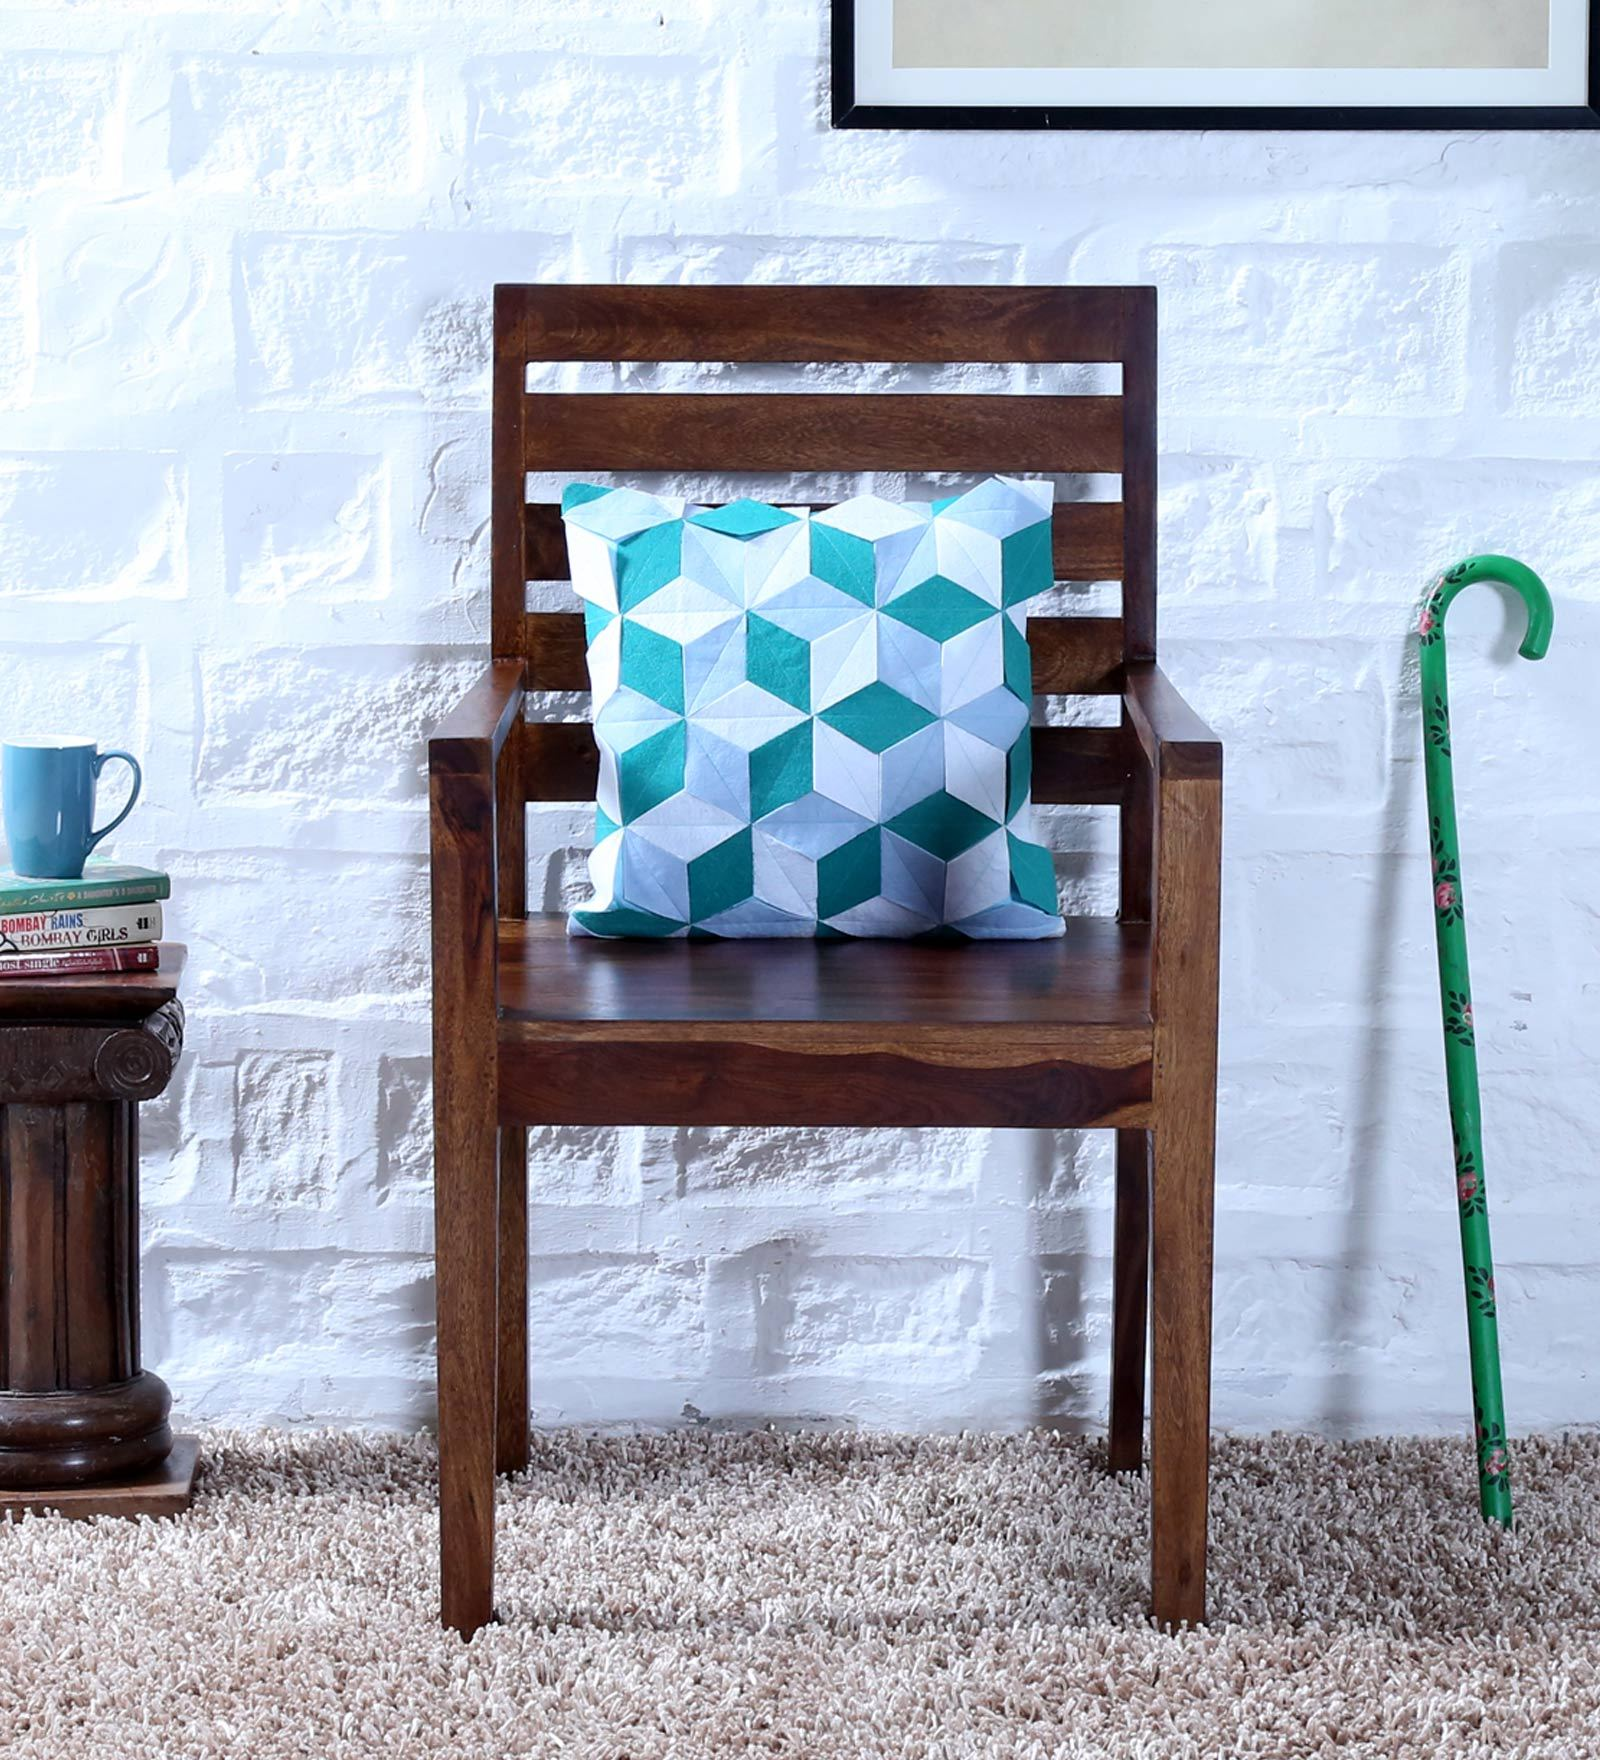Stigen Arm Chair in Provincial Teak Finish by Woodsworth: (380, 219, 1260, 1668)
